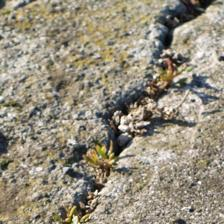Crack: (79, 1, 134, 50)
